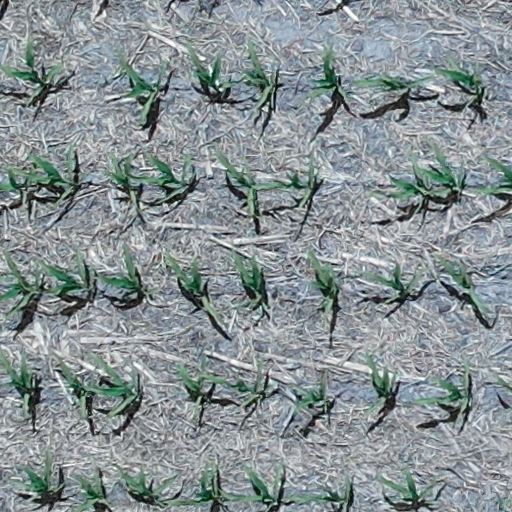planta: (3, 143, 75, 205), (164, 251, 223, 323), (118, 47, 170, 124), (82, 353, 138, 418), (103, 154, 169, 206), (412, 359, 471, 415), (198, 359, 264, 408), (248, 160, 315, 208), (435, 256, 491, 312), (185, 40, 241, 93), (302, 46, 354, 102), (156, 463, 221, 507), (54, 354, 96, 420), (216, 152, 257, 219), (230, 249, 267, 322), (412, 146, 464, 197), (363, 161, 431, 200), (8, 450, 64, 496), (36, 249, 90, 296), (375, 464, 437, 504), (147, 153, 195, 204), (241, 39, 275, 109), (362, 264, 421, 302), (112, 464, 179, 496), (362, 353, 396, 413), (306, 250, 338, 313), (177, 349, 205, 419), (97, 246, 139, 290), (289, 370, 328, 417), (350, 76, 432, 98), (432, 57, 482, 92)
